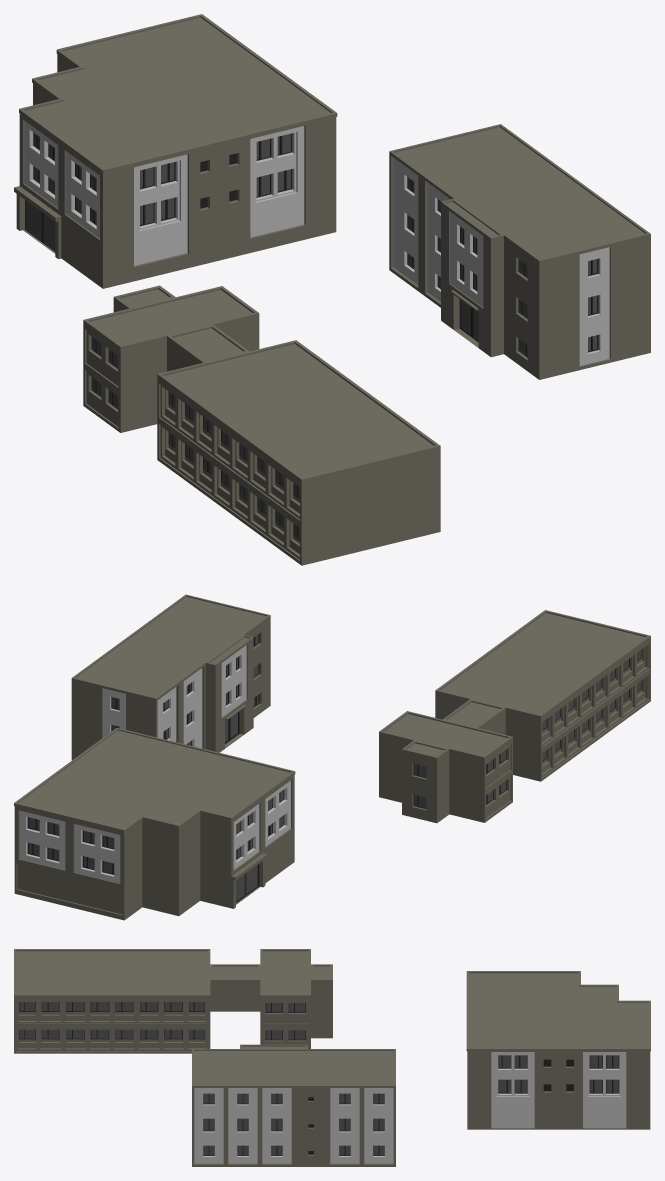
File: CentreLanque.gltf
The picture shows the model from 3 angles, top to bottom: view 1: azimuth 30°, elevation 25°; view 2: azimuth 150°, elevation 25°; view 3: azimuth 270°, elevation 25°; orthographic projection. The views are drawn at different scales.
Visible parts, largest first — view 1: anglais; view 2: anglais; view 3: anglais.
Part boxes in pixels (left/top/right/bottom): anglais: left=14, top=14, right=650, bottom=565; anglais: left=14, top=594, right=650, bottom=920; anglais: left=14, top=949, right=650, bottom=1166.
Size of the model in its own units: 80.68 by 19.1 by 136.
1 material, 1 textured.
